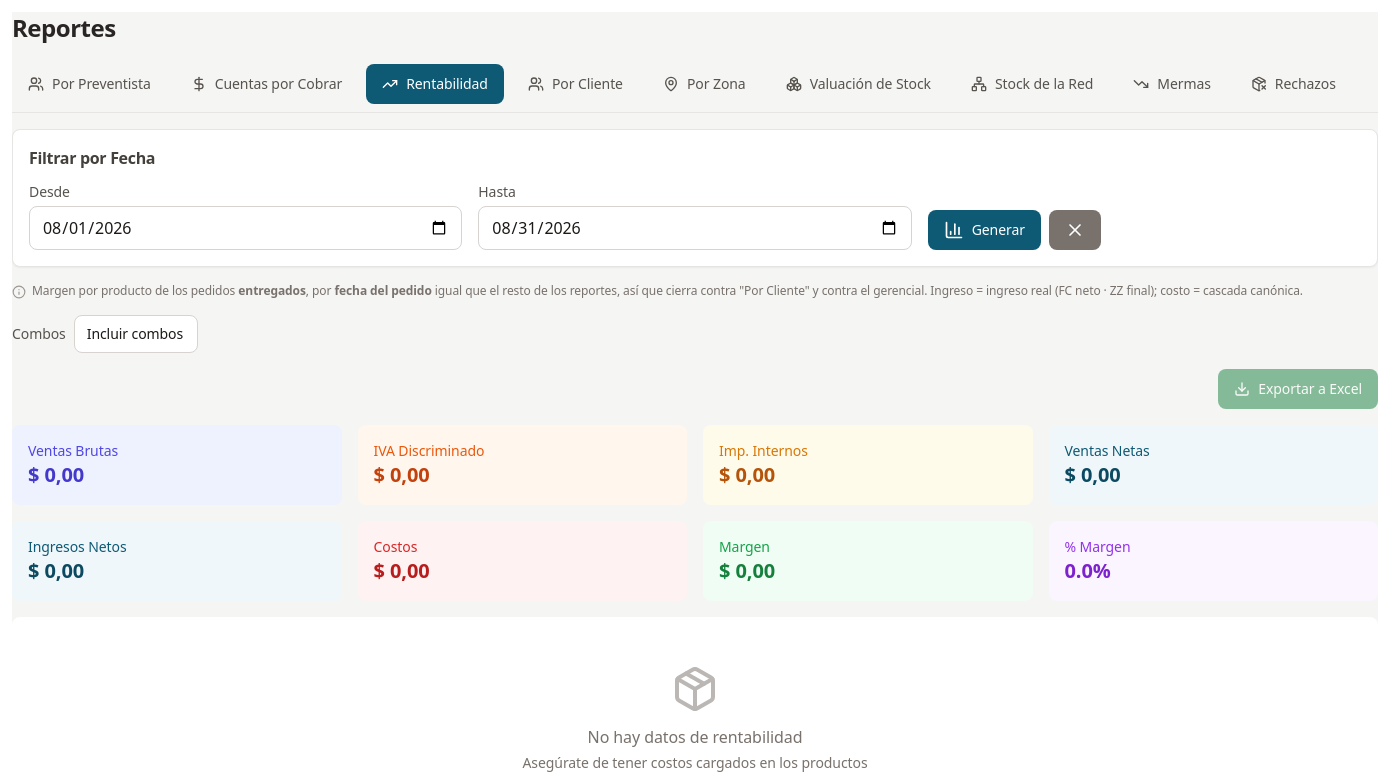
VistaReportes — filtro de fecha › "Limpiar" recarga la pestaña que se está mirando, sin filtro
The image size is (1390, 780).
Click the button named "Limpiar filtros" at [1075, 230], box [1049,210,1101,250]
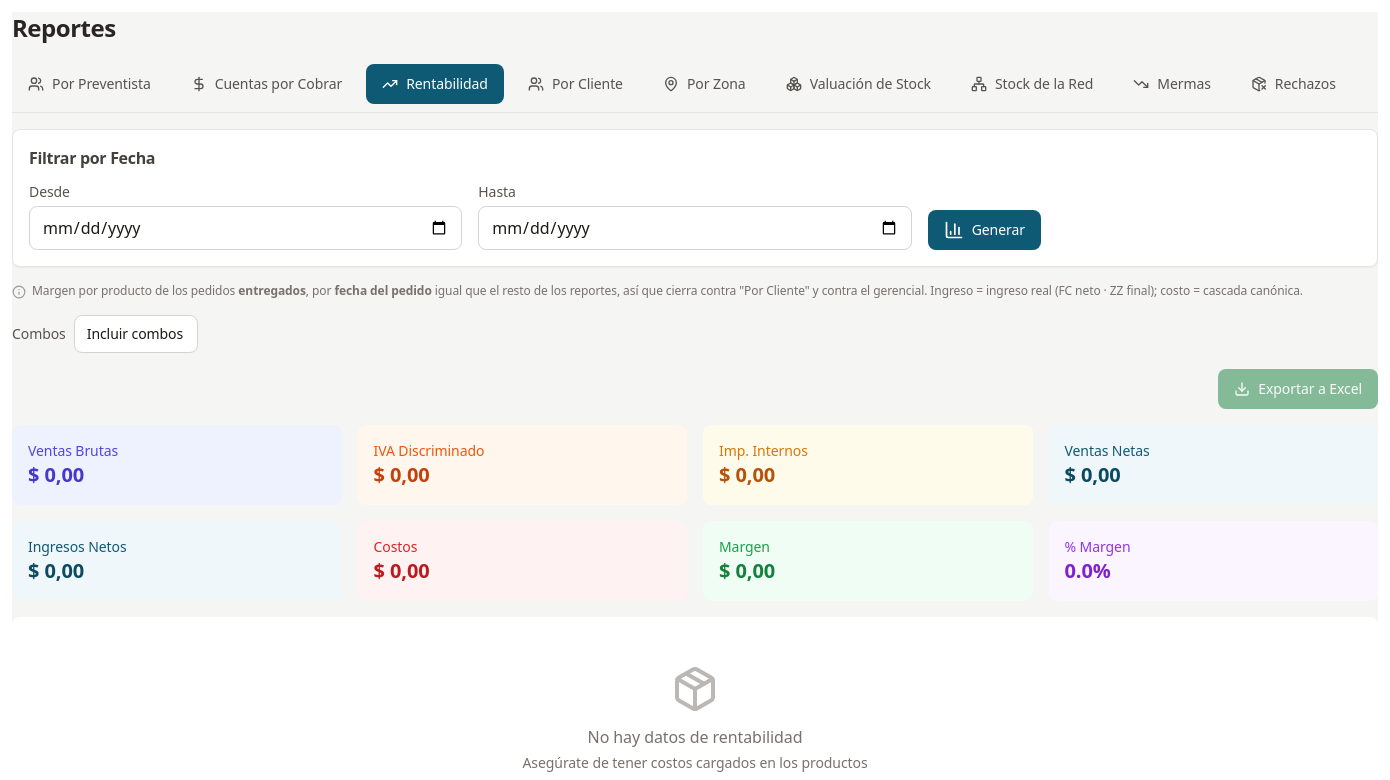
Check: the date field labelled "Desde" is empty, box [29,206,462,250]
Check: the date field labelled "Hasta" is empty, box [478,206,912,250]
